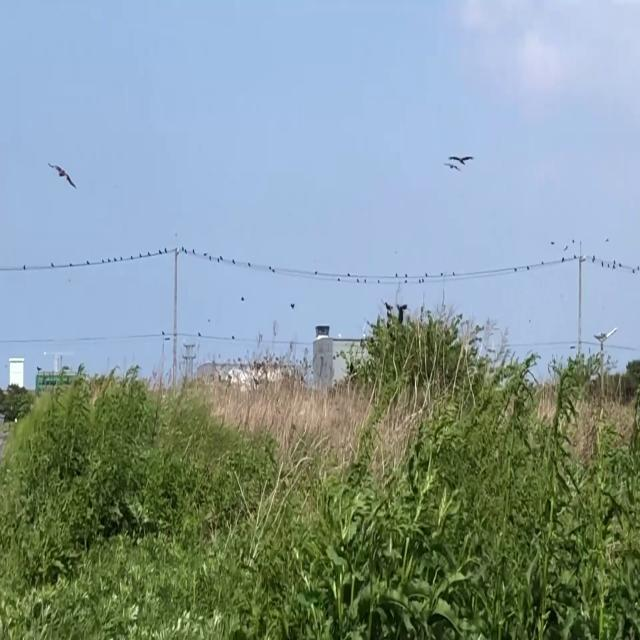bird: (50, 153, 76, 198), (446, 147, 473, 177), (290, 297, 296, 309)
